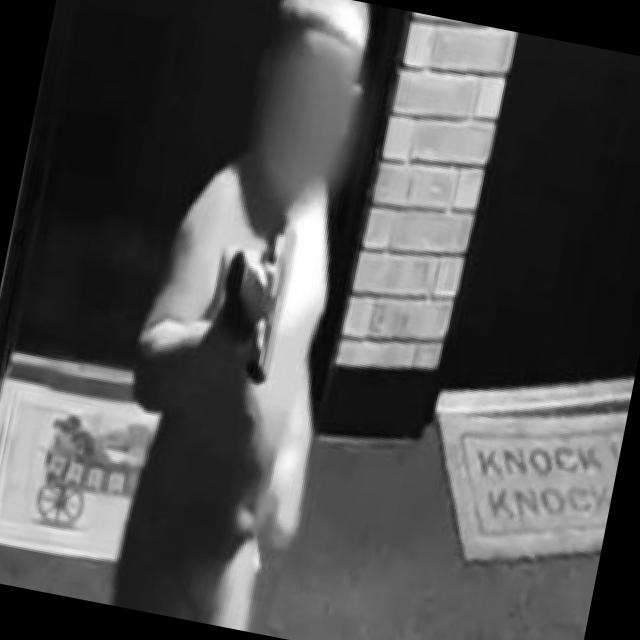Guns: (198, 200, 328, 396)
